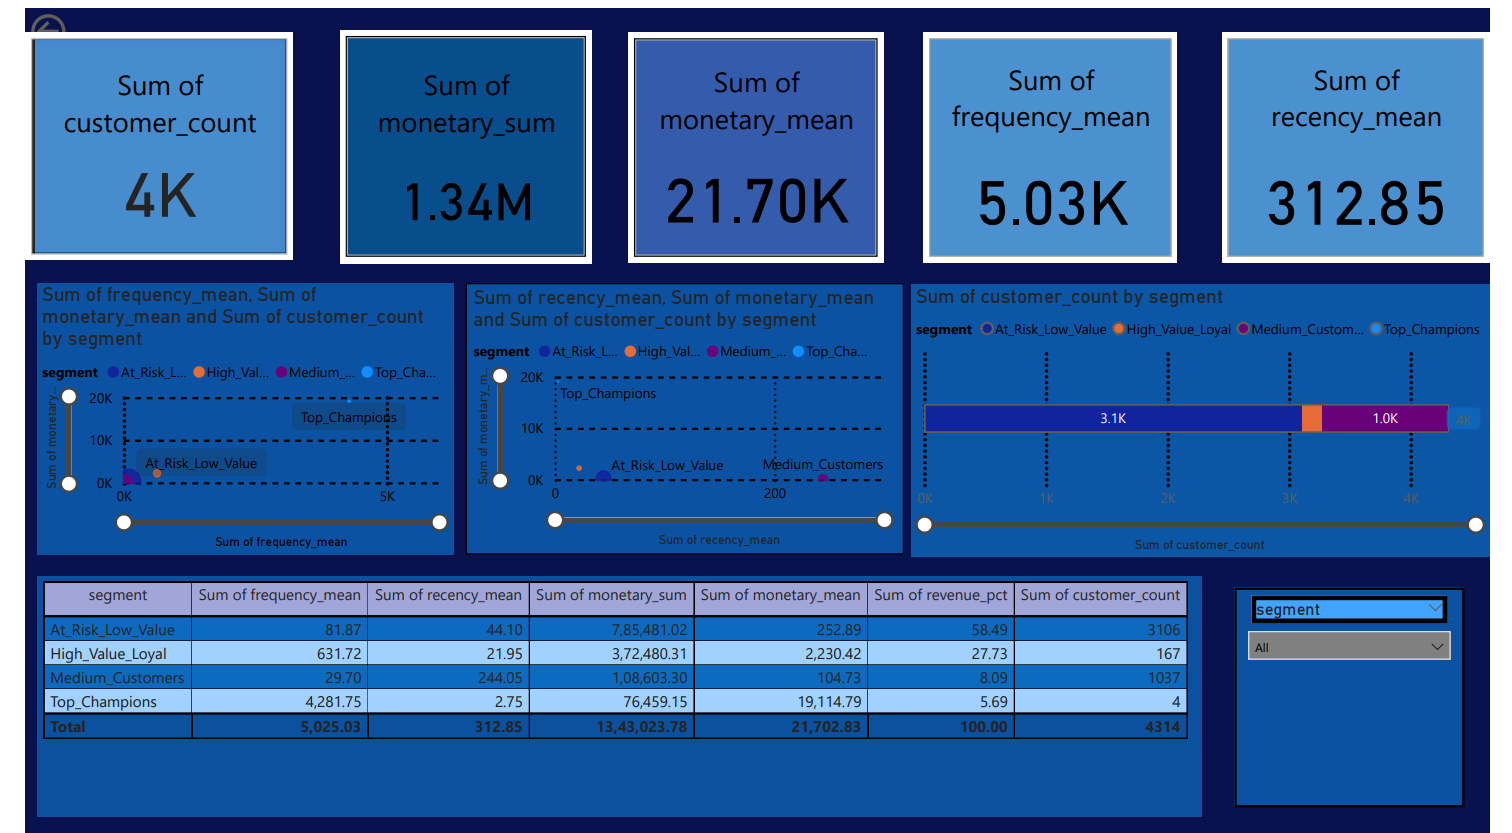

The page's visual inventory and layout, read from the dashboard file:
{"tool":"powerbi","page":{"name":"Page 1","canvas":[1280,720],"ordinal":0},"visuals":[{"type":"scatterChart","fields":{"X":["Sum(RFM_SegmentSummary_Enhanced.frequency_mean)"],"Y":["Sum(RFM_SegmentSummary_Enhanced.monetary_mean)"],"Series":["RFM_SegmentSummary_Enhanced.segment"],"Size":["Sum(RFM_SegmentSummary_Enhanced.customer_count)"]},"box":[10,240,364,237],"z":0},{"type":"scatterChart","fields":{"X":["Sum(RFM_SegmentSummary_Enhanced.recency_mean)"],"Y":["Sum(RFM_SegmentSummary_Enhanced.monetary_mean)"],"Series":["RFM_SegmentSummary_Enhanced.segment"],"Size":["Sum(RFM_SegmentSummary_Enhanced.customer_count)"]},"box":[385,240,383,237],"z":1000},{"type":"barChart","fields":{"Y":["Sum(RFM_SegmentSummary_Enhanced.customer_count)"],"Series":["RFM_SegmentSummary_Enhanced.segment"]},"box":[773.8,241.2,506.2,237.5],"z":2000},{"type":"slicer","fields":{"Values":["RFM_SegmentSummary_Enhanced.segment"]},"box":[1056.7,505.5,201.7,192.1],"z":3000},{"type":"tableEx","fields":{"Values":["RFM_SegmentSummary_Enhanced.segment","Sum(RFM_SegmentSummary_Enhanced.frequency_mean)","Sum(RFM_SegmentSummary_Enhanced.recency_mean)","Sum(RFM_SegmentSummary_Enhanced.monetary_sum)","Sum(RFM_SegmentSummary_Enhanced.monetary_mean)","Sum(RFM_SegmentSummary_Enhanced.revenue_pct)","Sum(RFM_SegmentSummary_Enhanced.customer_count)"]},"box":[10,496,1018,210],"z":4000},{"type":"actionButton","box":[0,0,100,40],"z":5000},{"type":"cardVisual","fields":{"Data":["Sum(RFM_SegmentSummary_Enhanced.customer_count)","select"]},"box":[0,21,234,199],"z":6000},{"type":"cardVisual","fields":{"Data":["Sum(RFM_SegmentSummary_Enhanced.monetary_sum)"]},"box":[275,18.8,220,203.8],"z":7000},{"type":"cardVisual","fields":{"Data":["Sum(RFM_SegmentSummary_Enhanced.monetary_mean)"]},"box":[527,21,223,201],"z":8000},{"type":"cardVisual","fields":{"Data":["Sum(RFM_SegmentSummary_Enhanced.frequency_mean)"]},"box":[785,21,222,201],"z":9000},{"type":"cardVisual","fields":{"Data":["Sum(RFM_SegmentSummary_Enhanced.recency_mean)"]},"box":[1046,21,234,201],"z":10000}]}

Visuals, with their boxes in screenshot pixels (x1, y1, x2, y2), scaled from the page's 1280x720 canvas onto the 1512x833 screenshot:
scatterChart - Sum(RFM_SegmentSummary_Enhanced.frequency_mean) x Sum(RFM_SegmentSummary_Enhanced.monetary_mean): 12, 278, 442, 552
scatterChart - Sum(RFM_SegmentSummary_Enhanced.recency_mean) x Sum(RFM_SegmentSummary_Enhanced.monetary_mean): 455, 278, 907, 552
barChart - Sum(RFM_SegmentSummary_Enhanced.customer_count) x RFM_SegmentSummary_Enhanced.segment: 914, 279, 1511, 554
slicer - RFM_SegmentSummary_Enhanced.segment: 1248, 585, 1486, 807
tableEx - RFM_SegmentSummary_Enhanced.segment x Sum(RFM_SegmentSummary_Enhanced.frequency_mean): 12, 574, 1214, 817
actionButton: 0, 0, 118, 46
cardVisual - Sum(RFM_SegmentSummary_Enhanced.customer_count) x select: 0, 24, 276, 255
cardVisual - Sum(RFM_SegmentSummary_Enhanced.monetary_sum): 325, 22, 585, 258
cardVisual - Sum(RFM_SegmentSummary_Enhanced.monetary_mean): 623, 24, 886, 257
cardVisual - Sum(RFM_SegmentSummary_Enhanced.frequency_mean): 927, 24, 1190, 257
cardVisual - Sum(RFM_SegmentSummary_Enhanced.recency_mean): 1236, 24, 1511, 257
